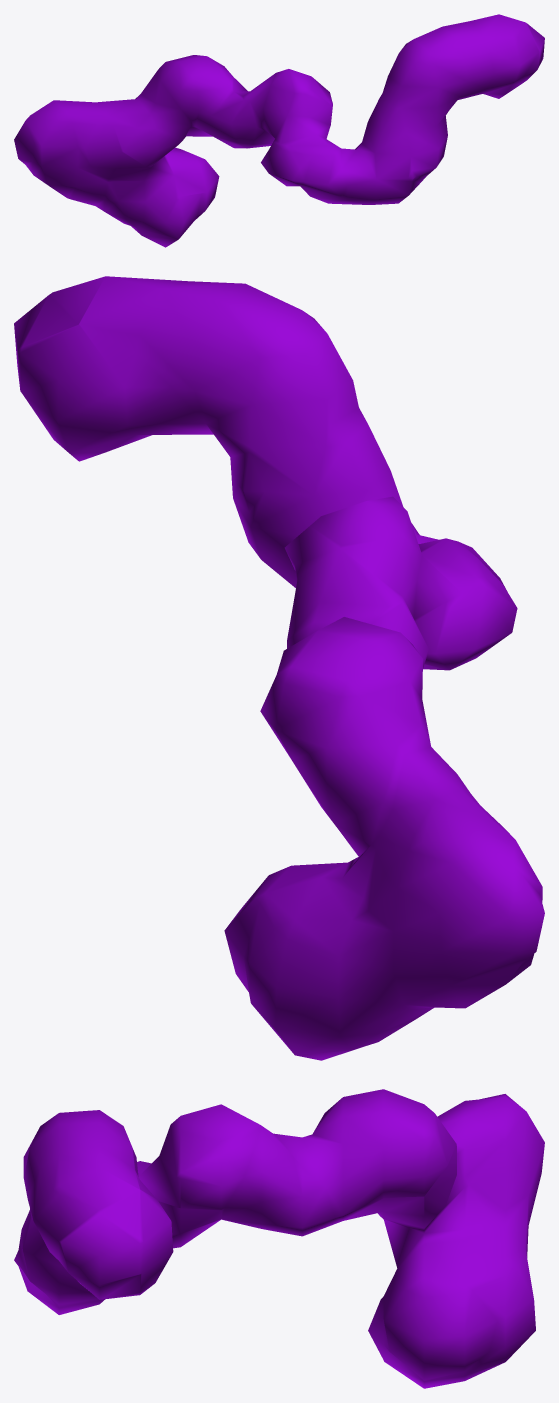
The model's file is Vesicle_80AAligned8.fbx.
3 renders of one model, top to bottom at view 1: azimuth 30°, elevation 25°; view 2: azimuth 150°, elevation 25°; view 3: azimuth 270°, elevation 25°, orthographic. The views are drawn at different scales.
Visible parts, largest first — view 1: vesicle_MeshVes80Mesh; view 2: vesicle_MeshVes80Mesh; view 3: vesicle_MeshVes80Mesh.
Boxes of the visible parts, x1,y1,x2,y2 form: vesicle_MeshVes80Mesh: (14, 14, 544, 247); vesicle_MeshVes80Mesh: (14, 276, 544, 1060); vesicle_MeshVes80Mesh: (14, 1089, 544, 1388).
Size of the model in its own units: 115 by 70.97 by 86.78.
